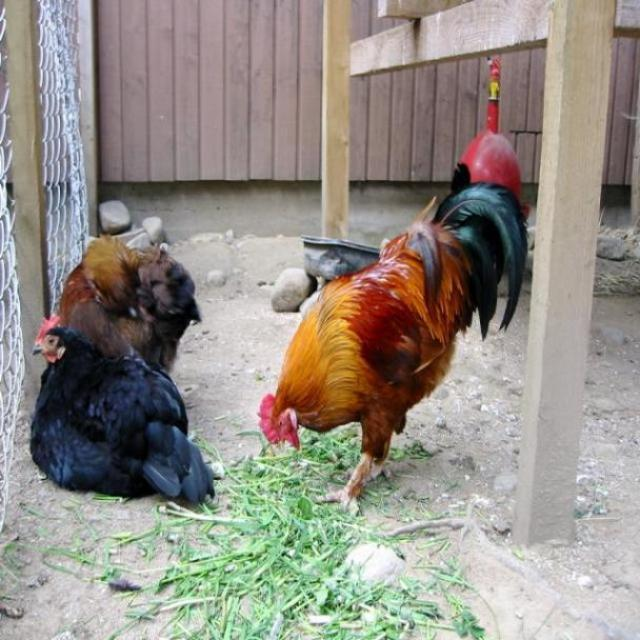Chicken: (249, 169, 524, 508), (29, 311, 219, 507), (56, 230, 202, 378)
